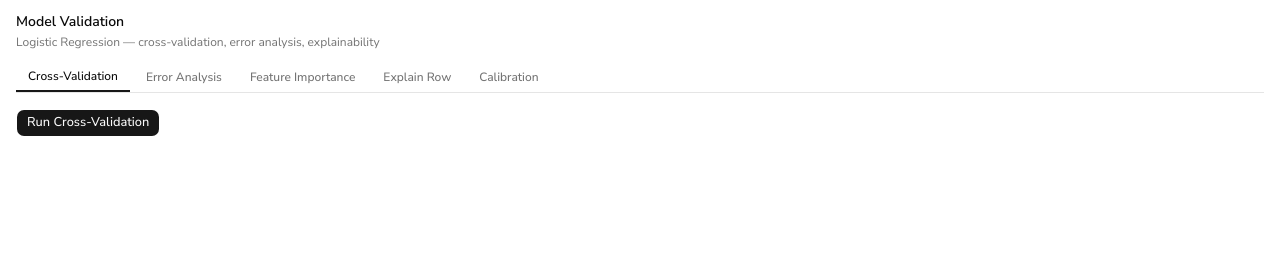
Test case: Calibration tab › handles empty calibration_curve gracefully
Click the tab "Calibration": (509, 77) [467, 62, 550, 92]
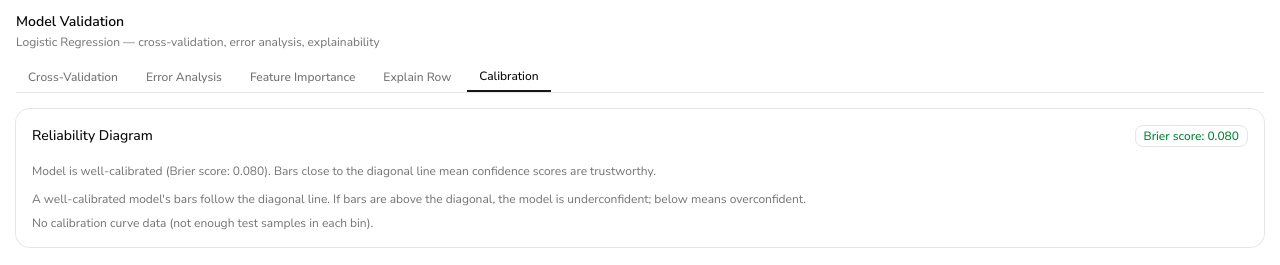
Expected: the text "No calibration curve data" is shown, [32, 215, 373, 231]
